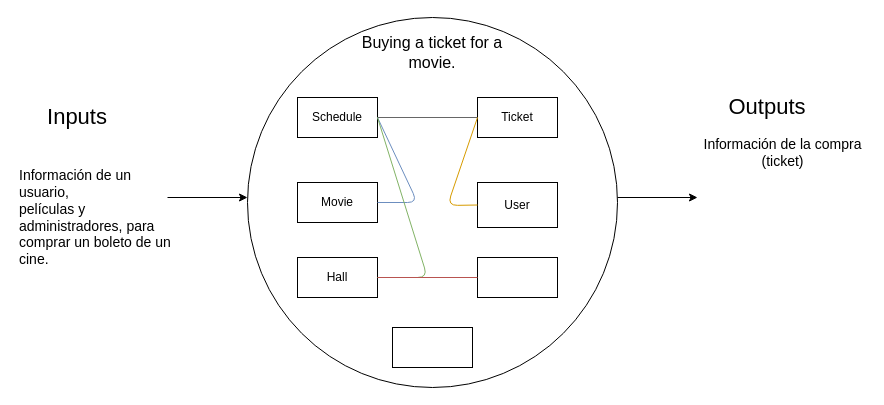
Some shapes in this 884 by 405 pixel diagram are drawn without their labels. Each missing label, with the centre of its shape:
"Admin" belongs at (432,347).
"Seat" belongs at (517,277).
